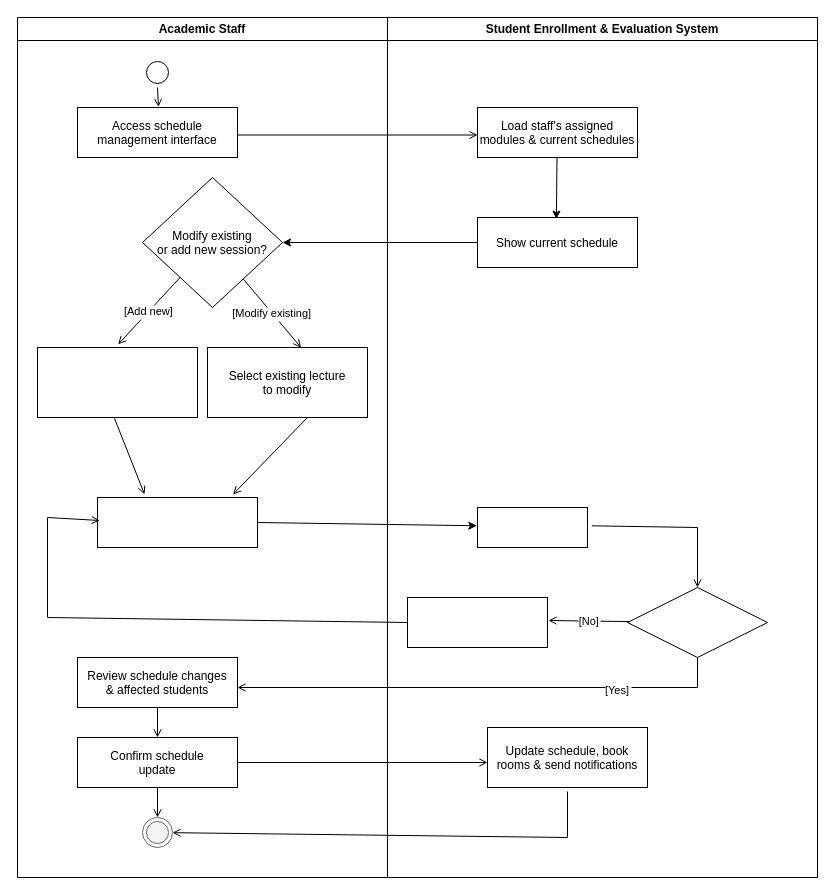
This 835x895 diagram has some shape labels left out. Here are the shapes that lost their labels. From the top down, the centre of each, then its label:
At [117,382]: "Create new session (extra lecture, mid exam, makeup class, etc.)".
At [177,522]: "Set time, location, type & details".
At [532,527]: "Validate".
At [477,622]: "Show conflicts & suggest alternatives".
At [697,622]: "Schedule valid & available?".
